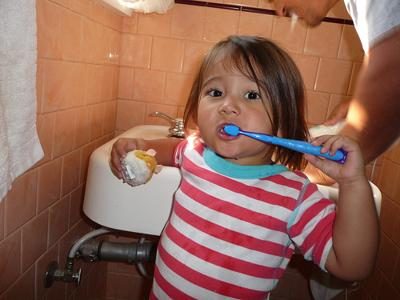person: (111, 36, 380, 300)
